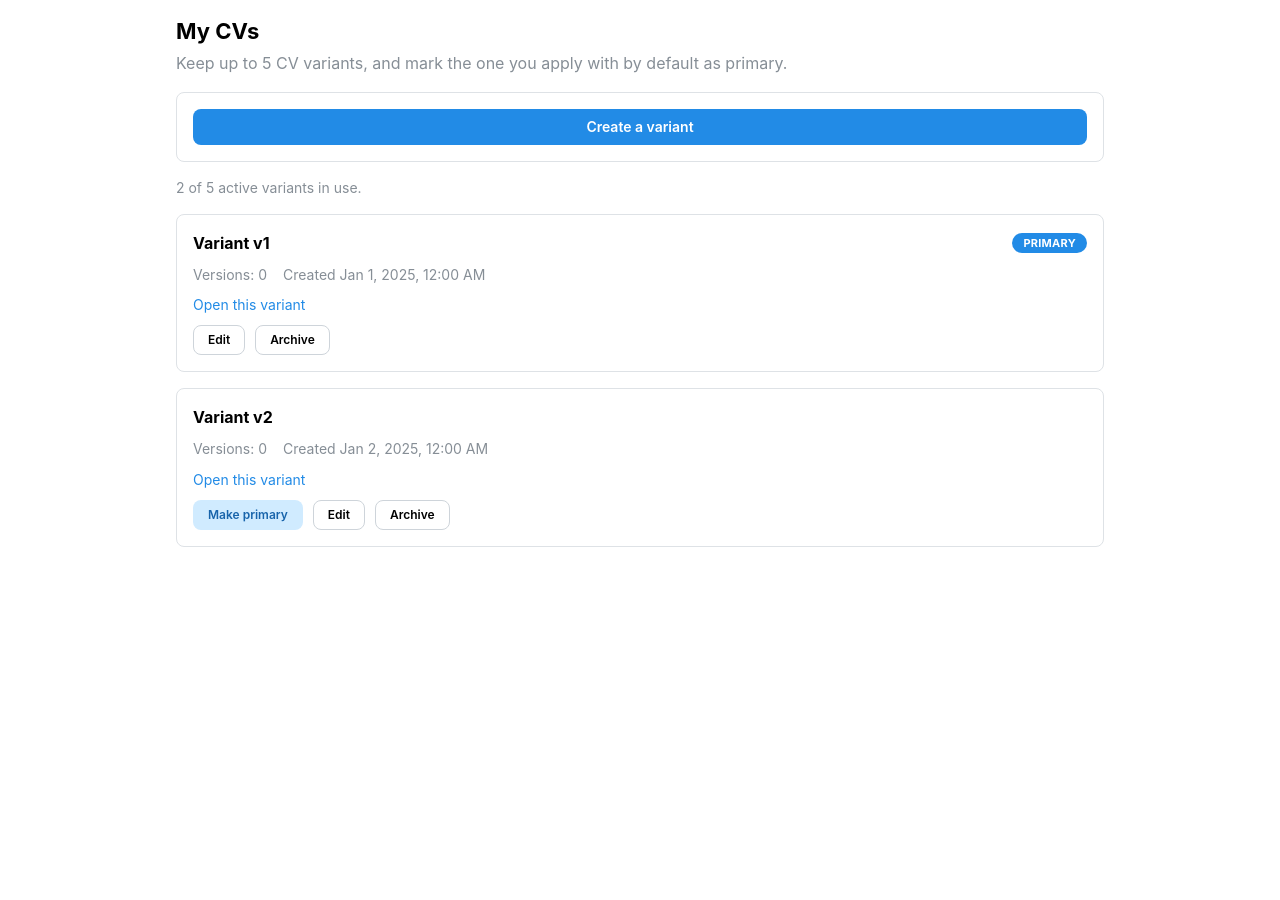
Test: the archive control (Req 11 AC5, AC6) › archives the variant once the confirmation is given
Click the button with test id "variant-archive-v2". click: coordinates (412, 515)
box: top-left (375, 500), bottom-right (450, 530)
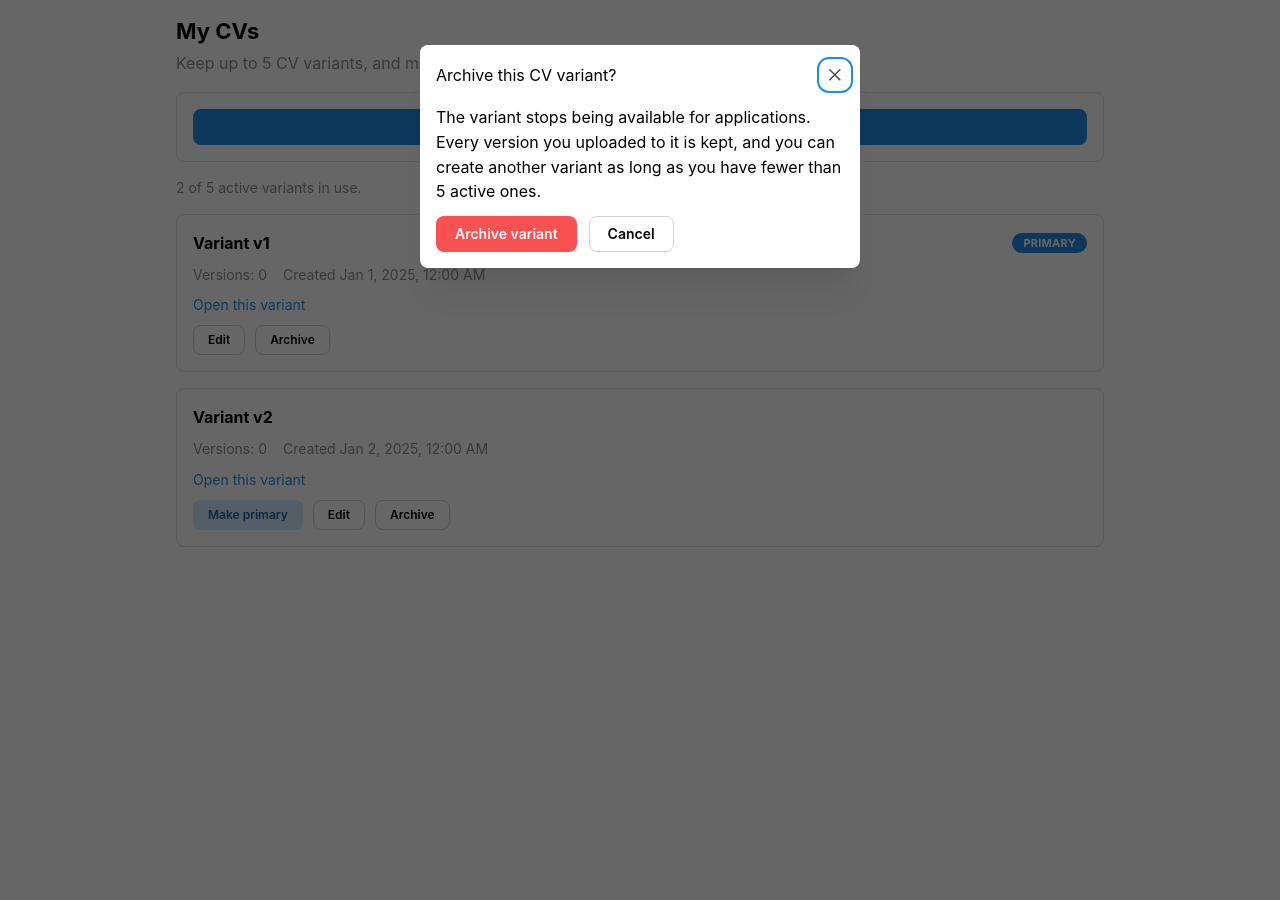
Click the button with test id "variant-archive-confirm-submit". click: coordinates (506, 234)
box: top-left (436, 216), bottom-right (577, 252)
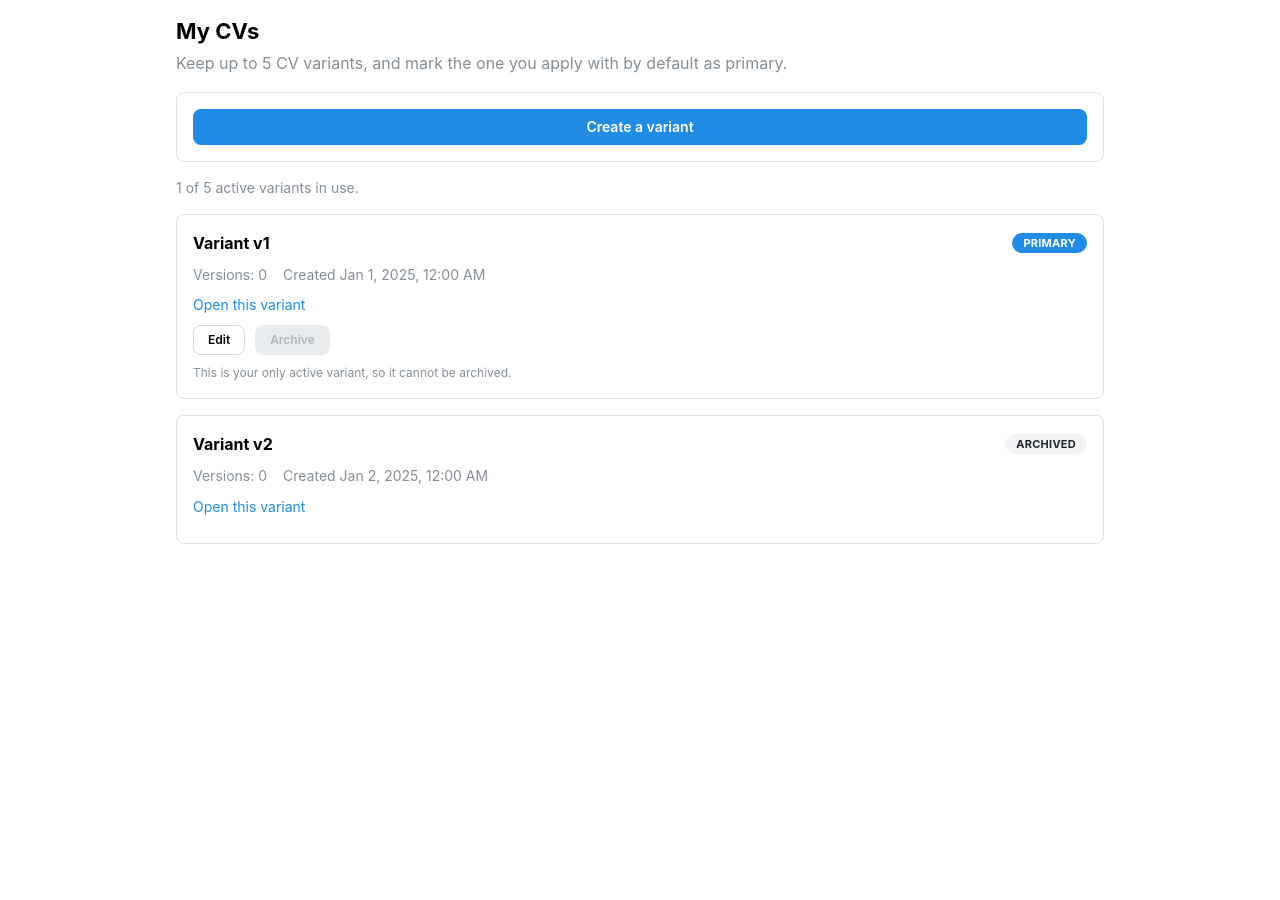
Expected: the element with test id "variant-archived-badge-v2" is shown, top-left (1005, 434), bottom-right (1087, 454)
